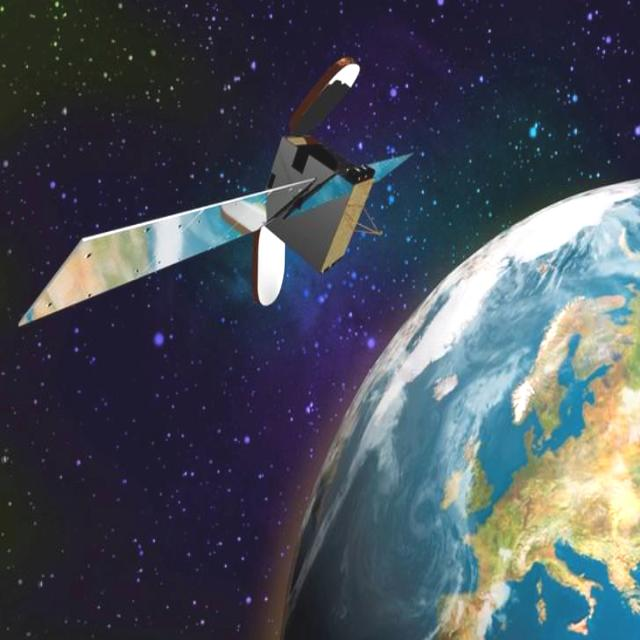medium_debris: (19, 58, 422, 342)
